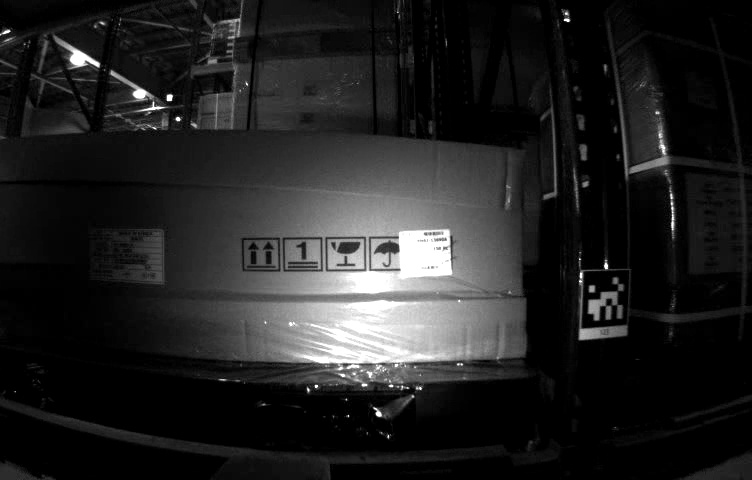True Barcode: (397, 228, 455, 279), (683, 71, 718, 110)
